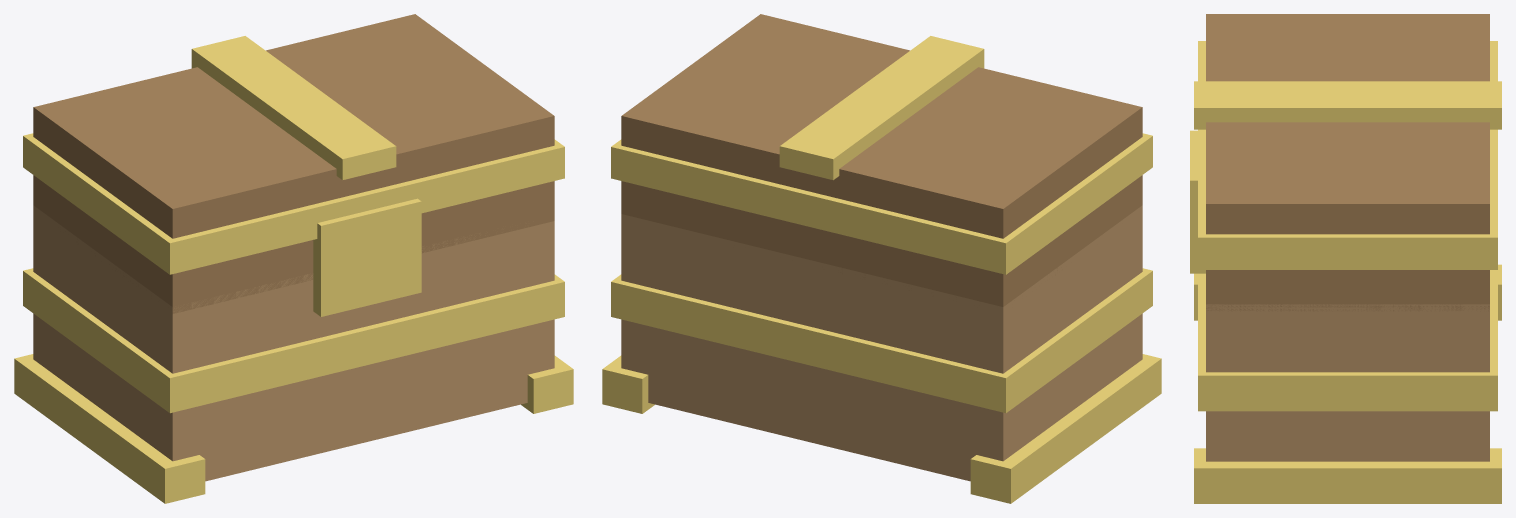
File: chest.glb
3 renders of one model, left to right at view 1: azimuth 30°, elevation 25°; view 2: azimuth 150°, elevation 25°; view 3: azimuth 270°, elevation 25°, orthographic. The views are drawn at different scales.
Parts seen in each view (by area): view 1: lid_mesh, chest_body, trim_front, lid_trim, lid_top_trim, lock_plate, foot_right, foot_left; view 2: lid_mesh, chest_body, trim_front, lid_trim, lid_top_trim, foot_right, foot_left; view 3: lid_mesh, chest_body, trim_front, foot_left, lid_trim, lid_top_trim, lock_plate, foot_right.
Part boxes in pixels (x1,y1,x2,y2): lid_mesh: [33, 14, 554, 313]; chest_body: [33, 205, 554, 481]; trim_front: [23, 268, 564, 413]; lid_trim: [23, 133, 564, 274]; lid_top_trim: [191, 36, 396, 180]; lock_plate: [313, 198, 421, 316]; foot_right: [14, 354, 205, 503]; foot_left: [521, 355, 573, 413]; lid_mesh: [621, 14, 1142, 306]; chest_body: [621, 205, 1142, 481]; trim_front: [611, 268, 1152, 413]; lid_trim: [611, 133, 1152, 274]; lid_top_trim: [779, 36, 984, 180]; foot_right: [970, 354, 1161, 503]; foot_left: [602, 355, 654, 413]; lid_mesh: [1206, 14, 1489, 311]; chest_body: [1206, 304, 1489, 461]; trim_front: [1198, 270, 1497, 411]; foot_left: [1194, 448, 1501, 503]; lid_trim: [1198, 41, 1497, 269]; lid_top_trim: [1194, 81, 1501, 129]; lock_plate: [1190, 130, 1205, 273]; foot_right: [1194, 264, 1501, 320].
Size of the model in its own units: 1.22 by 0.86 by 0.79.
